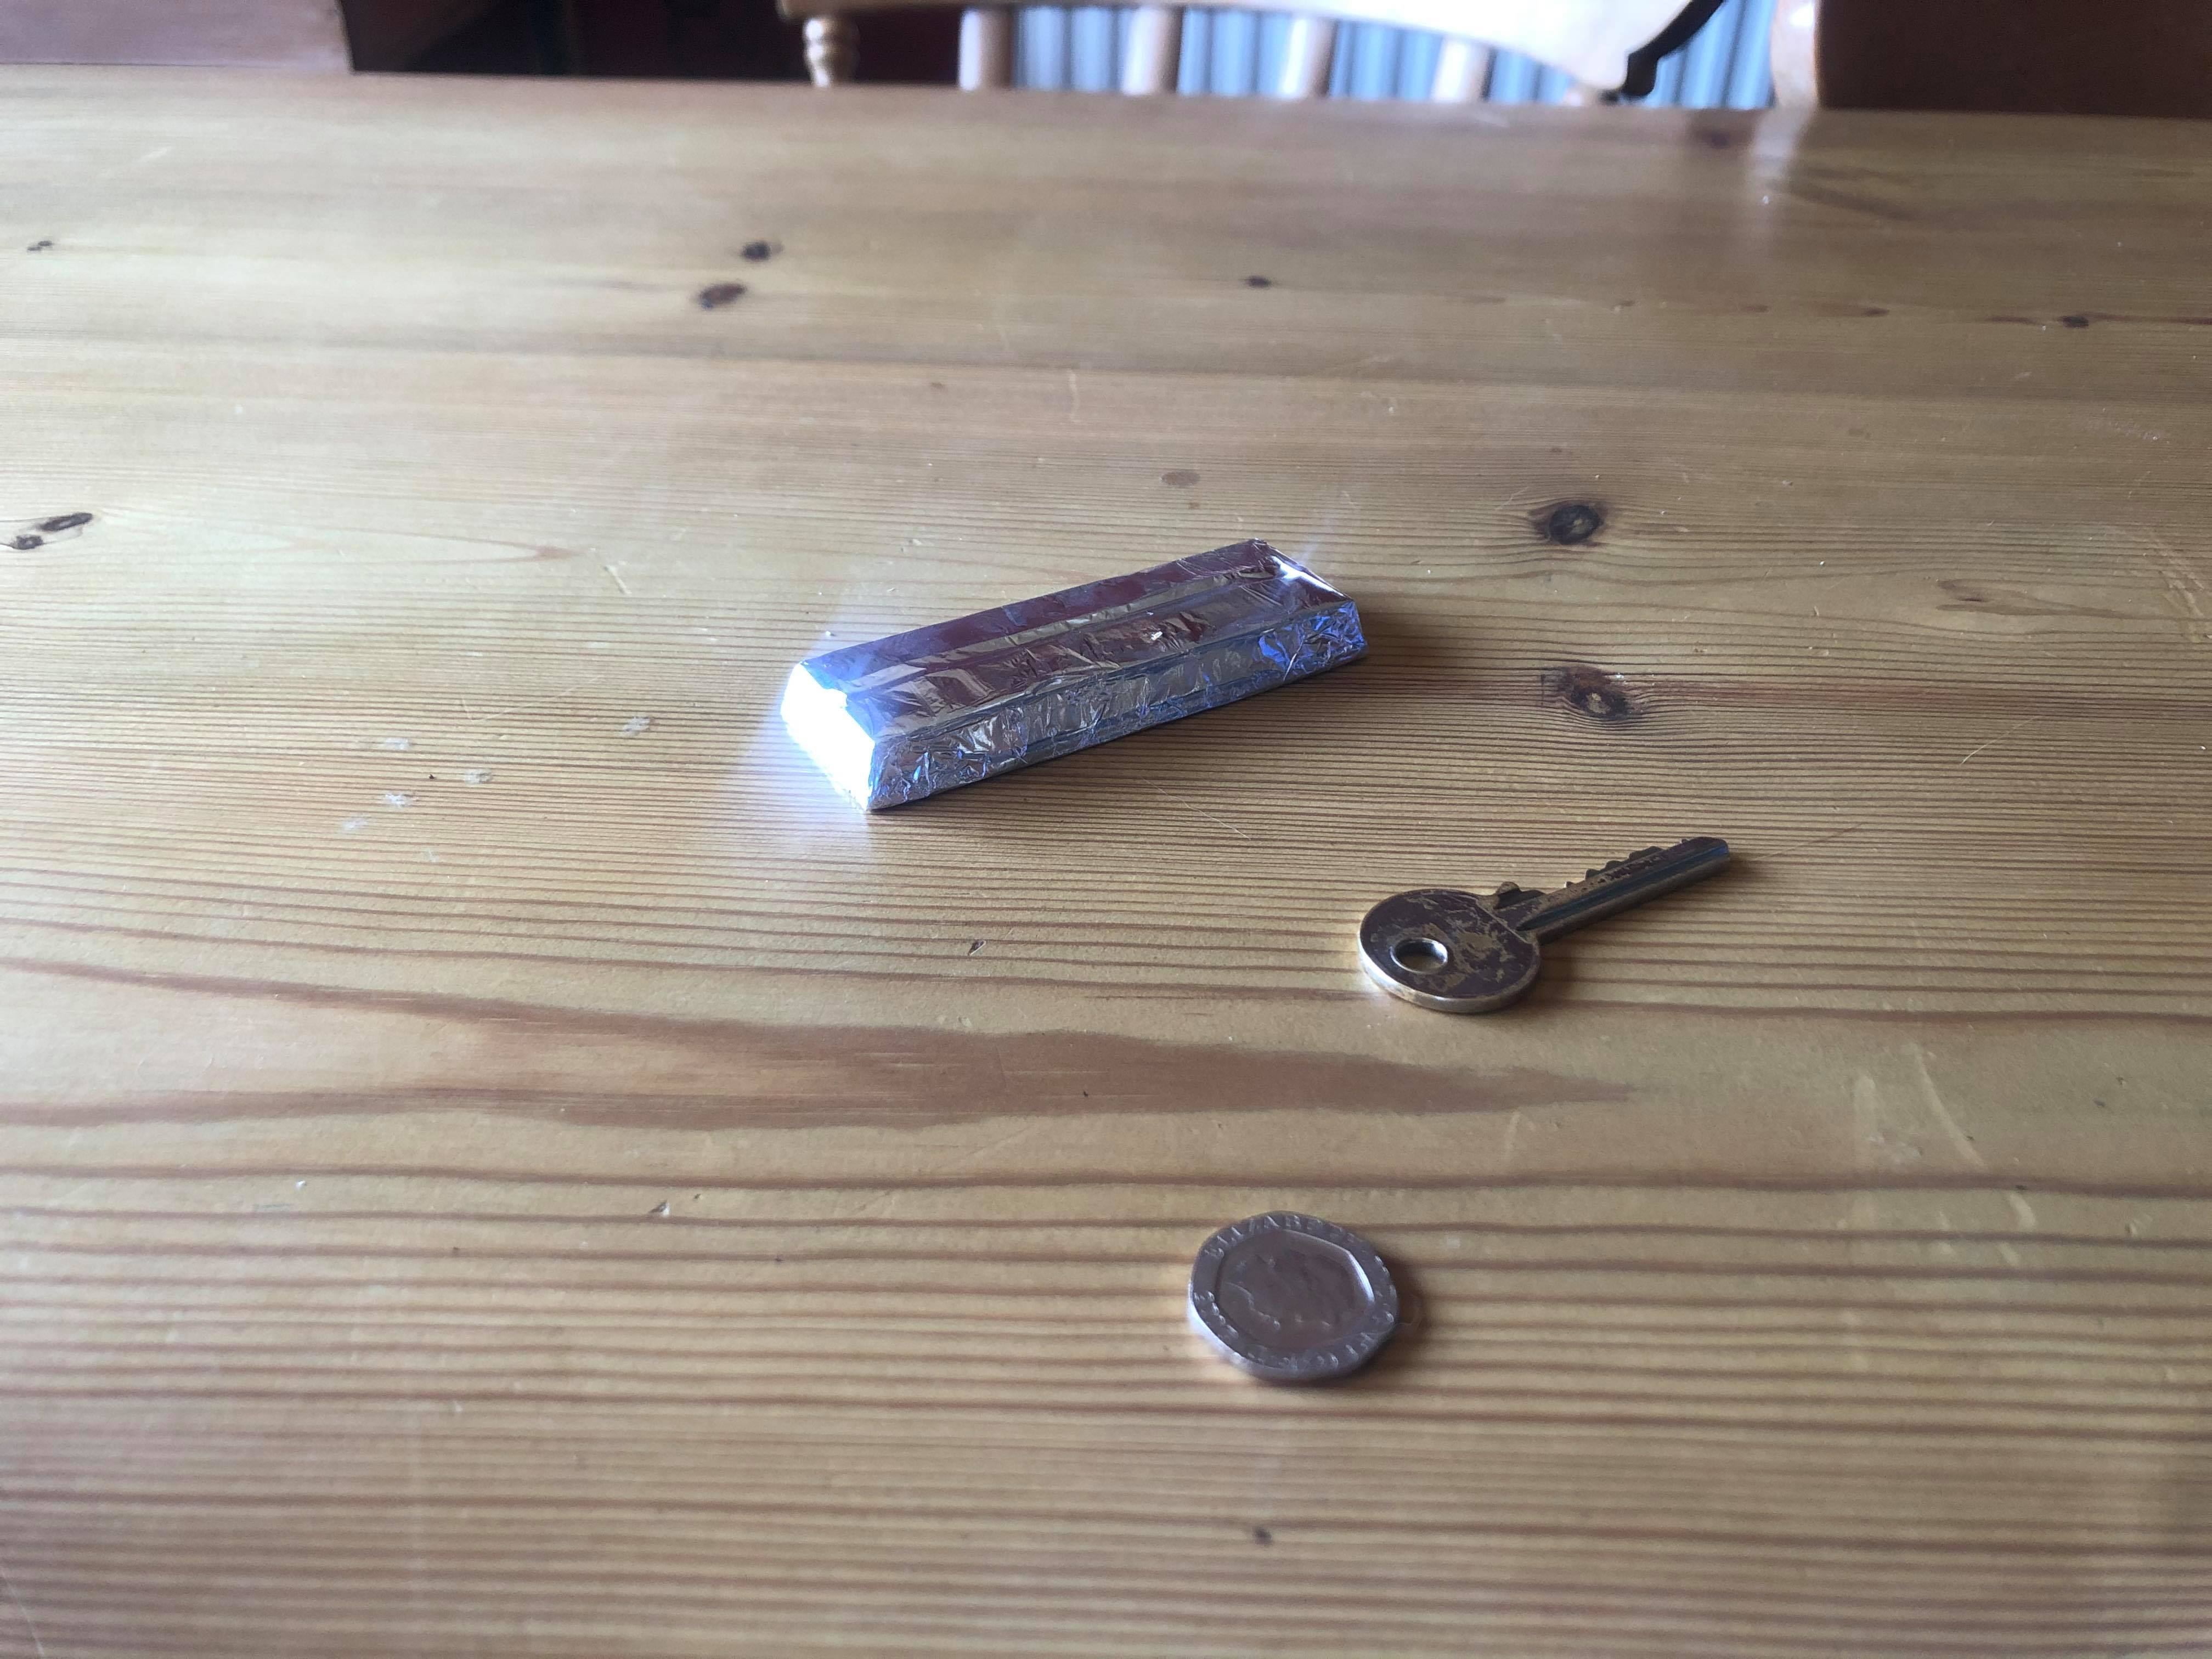Coin: (1158, 1204, 1430, 1391)
Foil: (765, 530, 1381, 826)
Key: (1338, 830, 1735, 1012)
